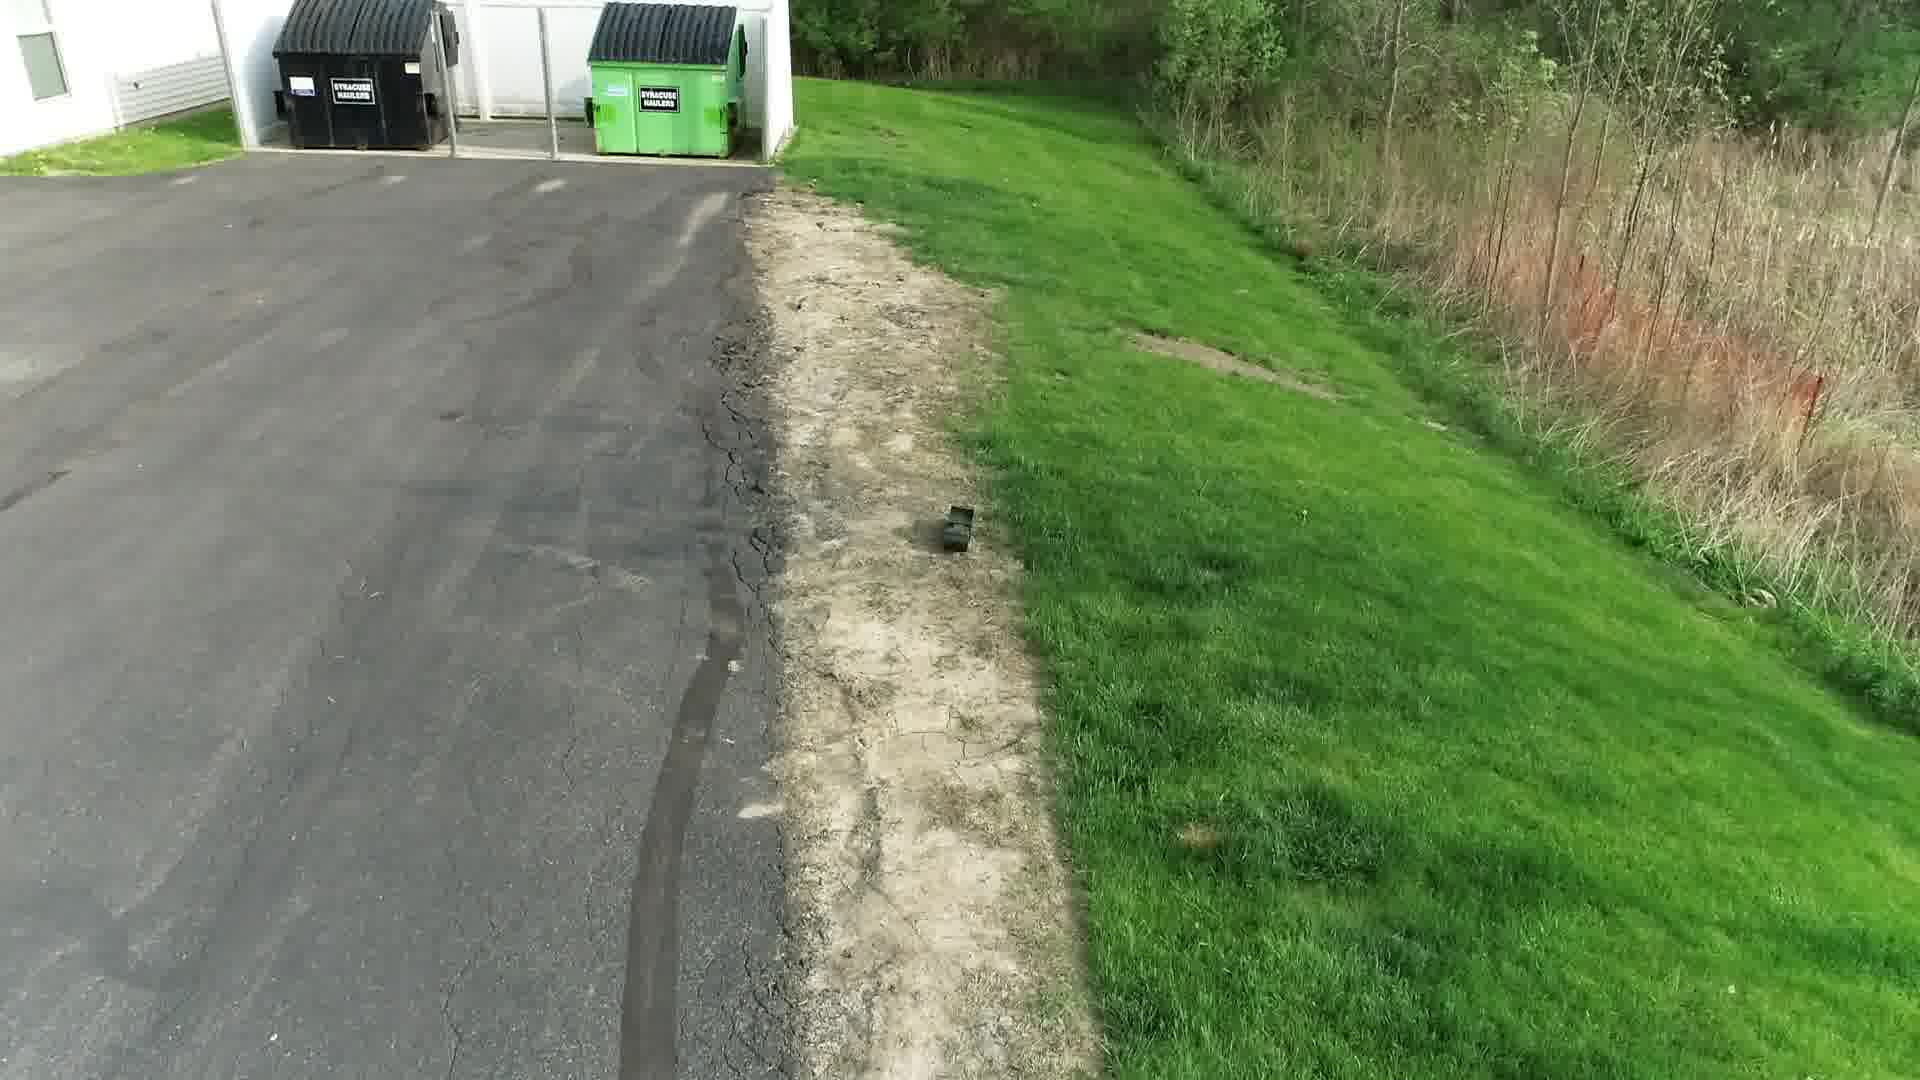transporter9: (939, 501, 978, 556)
